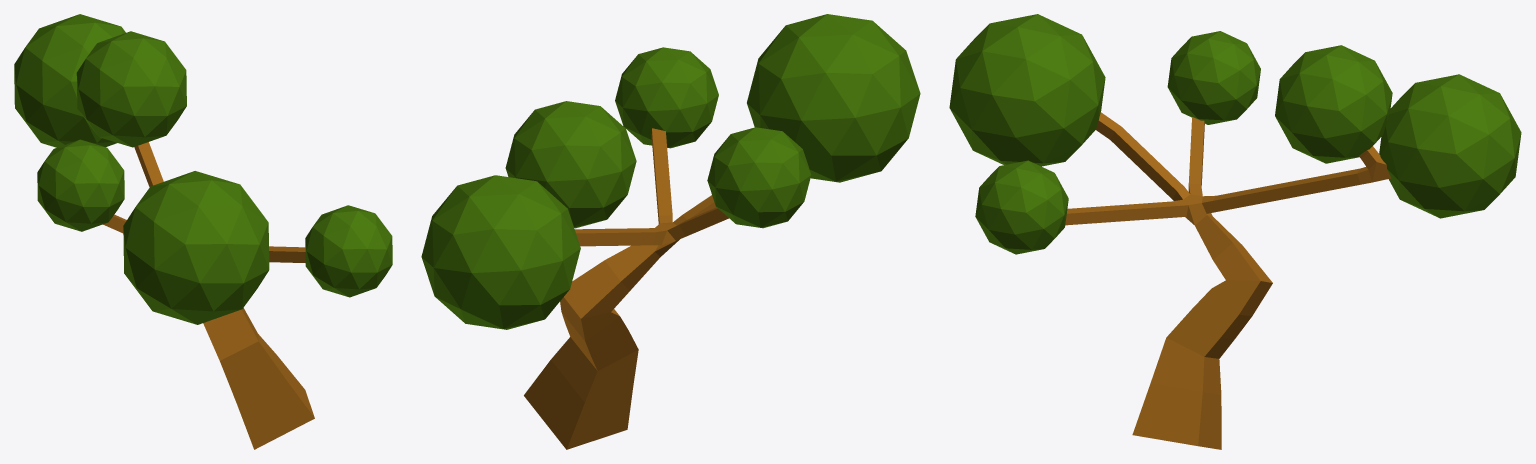
File: arvore2.glb
3 views of the same model, side by side, from view 1: azimuth 30°, elevation 25°; view 2: azimuth 150°, elevation 25°; view 3: azimuth 270°, elevation 25° (orthographic). The views are drawn at different scales.
Visible parts, largest first — view 1: Icosphere.001, Icosphere.003, Cube, Icosphere.004, Icosphere.002, Icosphere; view 2: Icosphere.001, Cube, Icosphere.004, Icosphere.003, Icosphere, Icosphere.002; view 3: Cube, Icosphere.001, Icosphere.004, Icosphere.003, Icosphere.002, Icosphere.
Boxes of the visible parts, x1,y1,x2,y2 form: Icosphere.001: (123, 171, 269, 324); Icosphere.003: (76, 31, 186, 147); Cube: (103, 142, 314, 449); Icosphere.004: (14, 14, 125, 147); Icosphere.002: (305, 205, 392, 297); Icosphere: (37, 139, 124, 231); Icosphere.001: (747, 14, 920, 182); Cube: (524, 128, 728, 449); Icosphere.004: (421, 175, 580, 329); Icosphere.003: (505, 101, 636, 228); Icosphere: (707, 127, 811, 228); Icosphere.002: (615, 47, 718, 148); Cube: (1065, 112, 1390, 449); Icosphere.001: (949, 14, 1105, 166); Icosphere.004: (1379, 74, 1521, 218); Icosphere.003: (1275, 45, 1392, 163); Icosphere.002: (975, 160, 1068, 254); Icosphere: (1167, 31, 1260, 124).
Size of the model in its own units: 3.39 by 4.52 by 6.34.
